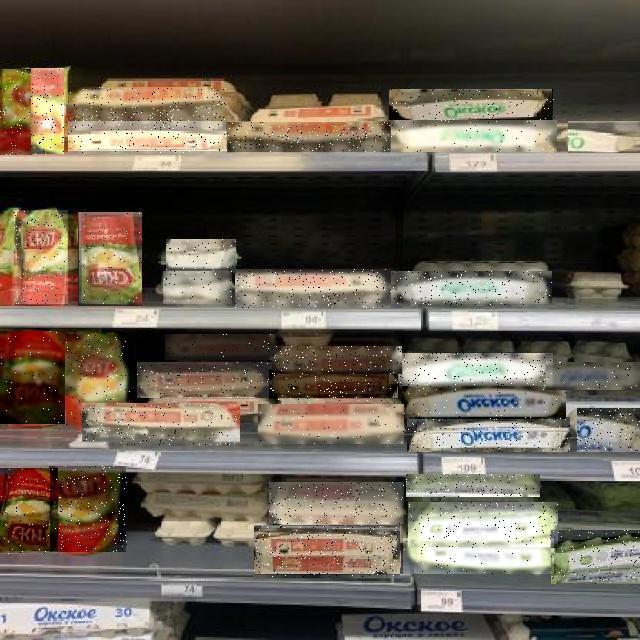Eggs: (255, 526, 401, 578), (408, 502, 558, 547), (50, 466, 128, 552), (83, 404, 241, 446), (235, 269, 391, 308), (0, 331, 65, 424), (78, 212, 142, 306), (66, 334, 131, 426), (390, 89, 556, 125), (258, 404, 404, 444), (270, 482, 406, 524), (407, 417, 570, 452), (391, 272, 552, 306), (392, 353, 553, 387), (403, 538, 554, 574), (402, 386, 566, 419), (68, 87, 227, 121), (391, 120, 557, 152), (68, 122, 227, 154), (15, 210, 69, 304), (0, 469, 58, 555), (227, 122, 391, 152), (137, 362, 272, 398), (551, 530, 640, 584), (270, 370, 402, 402), (272, 346, 402, 374), (406, 474, 540, 497), (166, 334, 278, 360), (31, 68, 64, 154), (577, 408, 640, 452), (0, 69, 32, 155), (546, 362, 640, 390), (166, 239, 236, 273), (164, 272, 234, 306), (568, 121, 640, 153)
